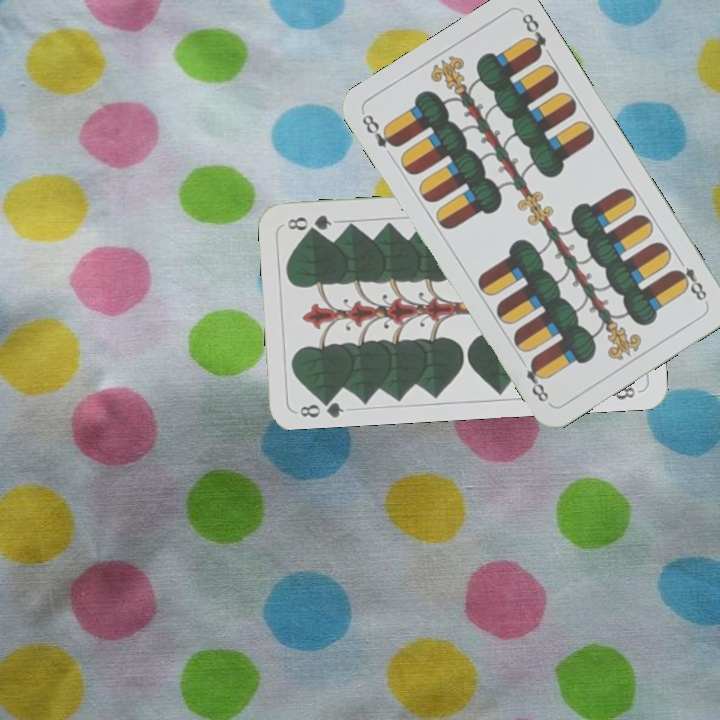E8: (670, 252, 710, 304), (357, 110, 401, 151)
G8: (296, 392, 346, 420)
